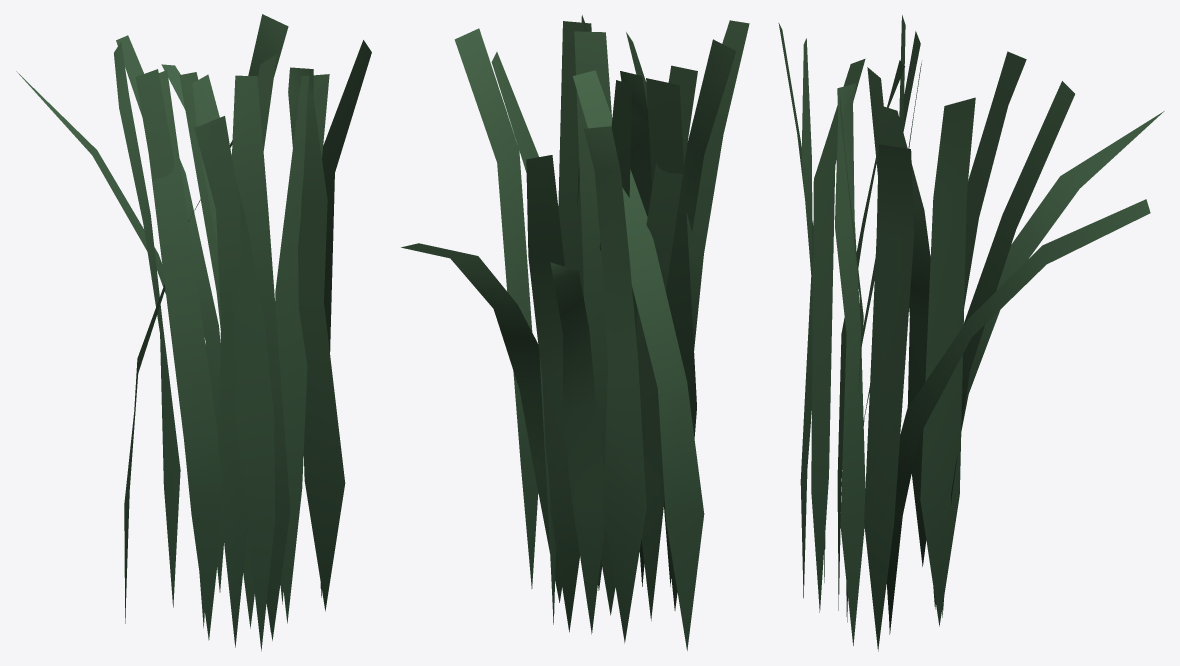
The model's file is trees-grasses-tall-grass_v3.glb.
3 renders of one model, left to right at view 1: azimuth 30°, elevation 25°; view 2: azimuth 150°, elevation 25°; view 3: azimuth 270°, elevation 25°, orthographic. The views are drawn at different scales.
Parts seen in each view (by area): view 1: Tall Grass_v3; view 2: Tall Grass_v3; view 3: Tall Grass_v3.
Boxes of the visible parts, x1=… form: Tall Grass_v3: x1=16, y1=14, x2=371, y2=651; Tall Grass_v3: x1=401, y1=15, x2=749, y2=650; Tall Grass_v3: x1=778, y1=15, x2=1164, y2=651.
Bounding box in the file's own units: 0.2256 × 0.5 × 0.3158.
